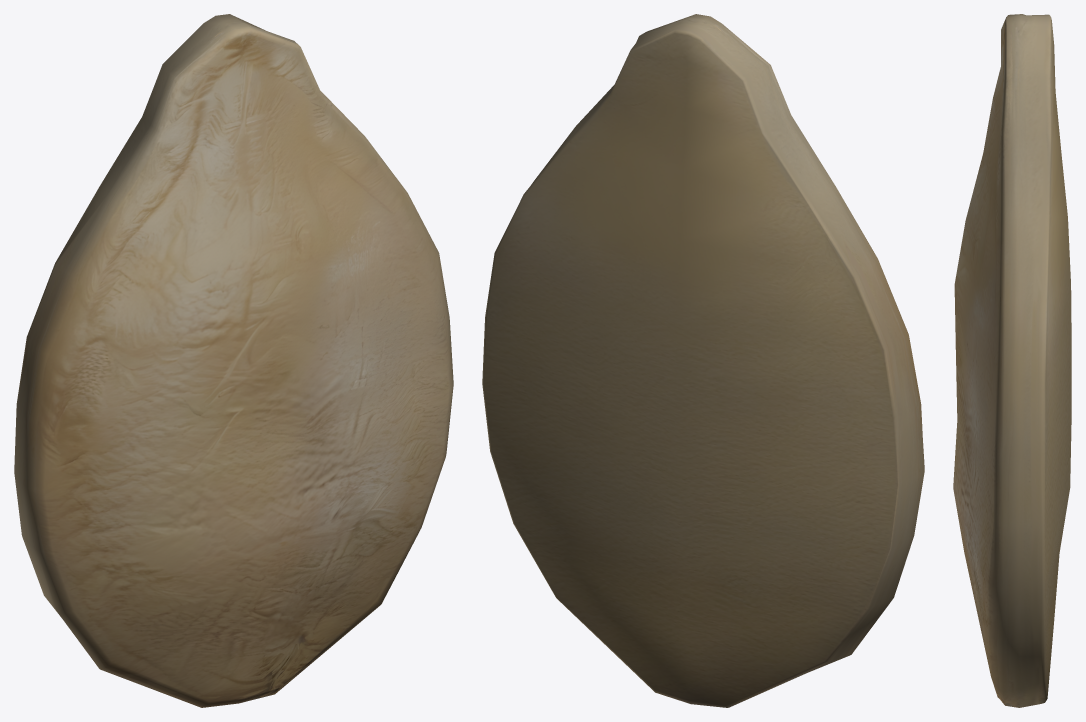
The model's file is seed.fbx.
3 views of the same model, side by side, from view 1: azimuth 30°, elevation 25°; view 2: azimuth 150°, elevation 25°; view 3: azimuth 270°, elevation 25° (orthographic).
Visible parts, largest first — view 1: Cube; view 2: Cube; view 3: Cube.
Part boxes in pixels (x1,y1,x2,y2): Cube: (14, 14, 453, 707); Cube: (482, 14, 924, 707); Cube: (953, 14, 1071, 707).
Bounding box in the file's own units: 18.97 × 119 × 78.64.
